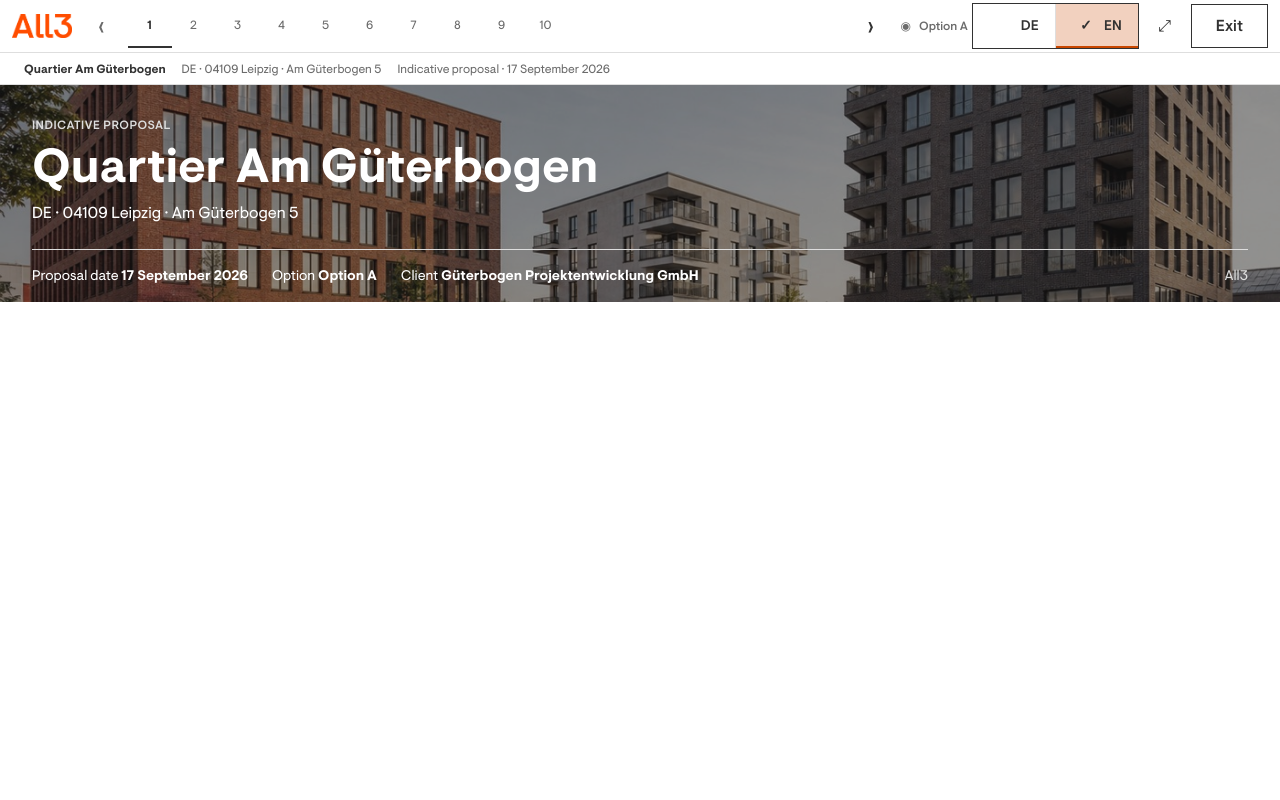
VR3-05 · the client hero speaks one language › bridges the total label and re-typesets the rate, keeping the normative denominator
Click the button "2": [194, 26] box [172,4,216,48]
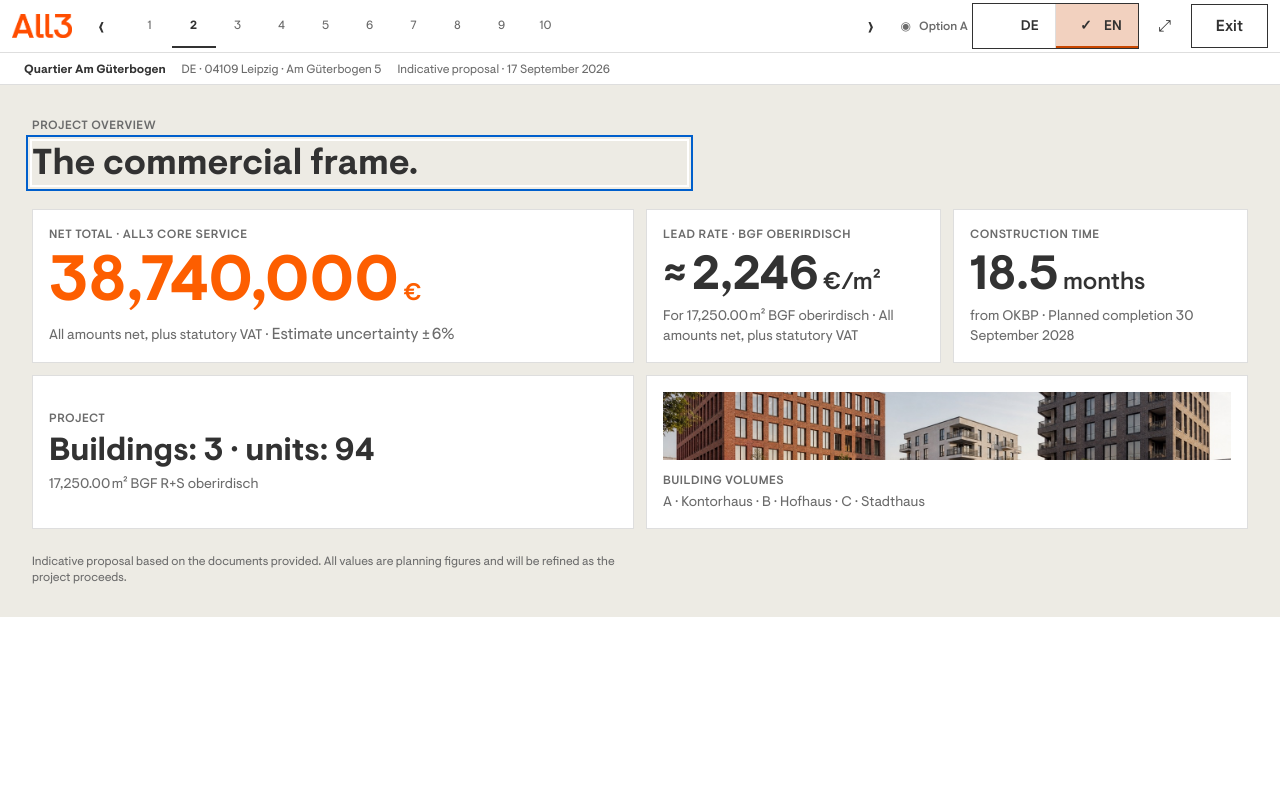
Check: the element "Project overview" is shown
Check: the text with class "a3-cp-metric-label" shows "Net total", box [49,226,248,242]
Check: the element with class "a3-cp-metric-co" shows "€/m²", box [823,265,881,297]
